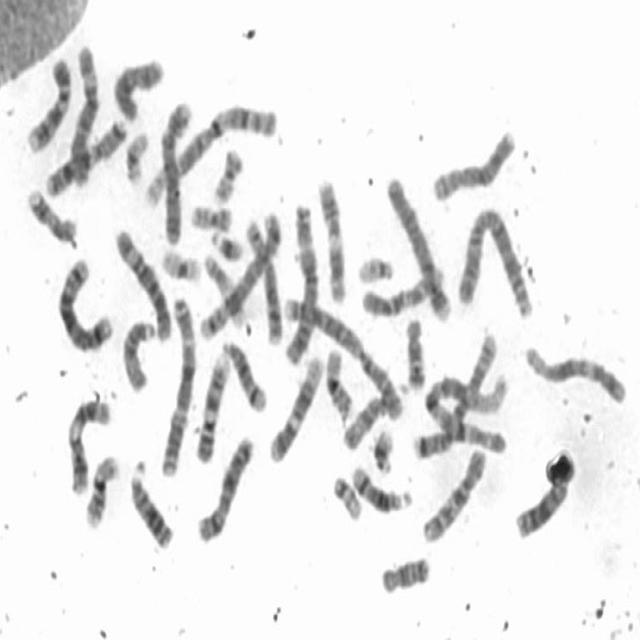A1: (142, 103, 280, 208), (423, 368, 509, 460)
A2: (280, 295, 404, 421), (454, 203, 534, 320)
A3: (156, 291, 198, 477), (284, 204, 321, 368)
B4: (384, 171, 451, 324), (159, 97, 193, 245)
B5: (195, 206, 284, 344), (54, 254, 114, 354)
C10: (418, 444, 488, 546), (357, 259, 449, 320)
C11: (65, 394, 112, 496), (315, 172, 347, 306)
C12: (522, 340, 628, 406), (266, 351, 324, 465)
C6: (112, 222, 173, 342), (67, 41, 99, 187)
C7: (412, 329, 499, 461), (42, 114, 129, 198)
C8: (430, 125, 518, 203), (241, 215, 283, 346)
C9: (22, 53, 74, 155), (193, 348, 231, 463)
D13: (128, 456, 174, 552), (511, 477, 569, 540)
D14: (220, 336, 266, 413), (348, 462, 412, 515)
D15: (339, 383, 403, 453), (120, 316, 157, 394)
E16: (82, 450, 120, 531), (322, 345, 354, 420)
E17: (200, 249, 246, 328), (23, 184, 78, 245)
E18: (377, 553, 431, 595), (399, 314, 426, 394)
F19: (158, 243, 202, 284), (123, 128, 150, 187)
F20: (210, 144, 245, 206), (188, 200, 235, 234)
G21: (209, 225, 244, 262), (370, 424, 395, 475)
G22: (330, 472, 363, 522), (355, 250, 395, 287)
X: (193, 432, 254, 546), (110, 52, 164, 122)
